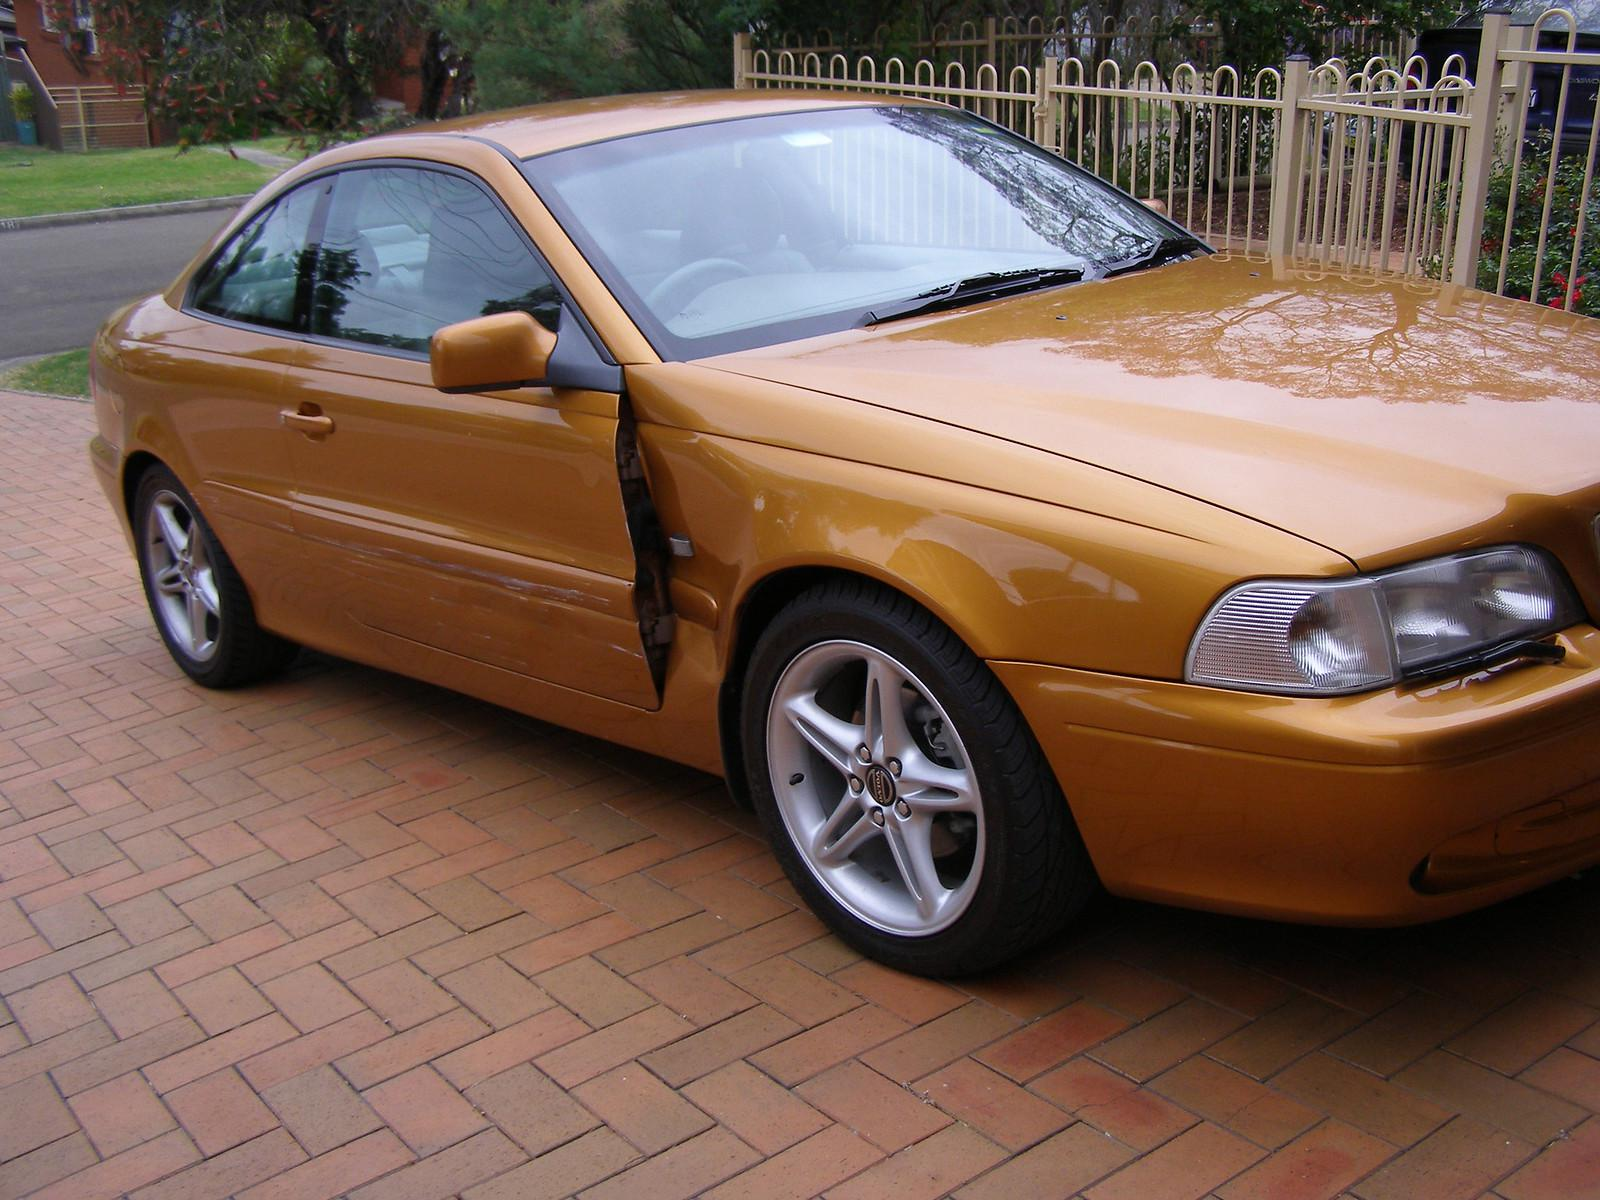doorouter-dent: (307, 377, 644, 700)
fender-dent: (627, 407, 1123, 730)
